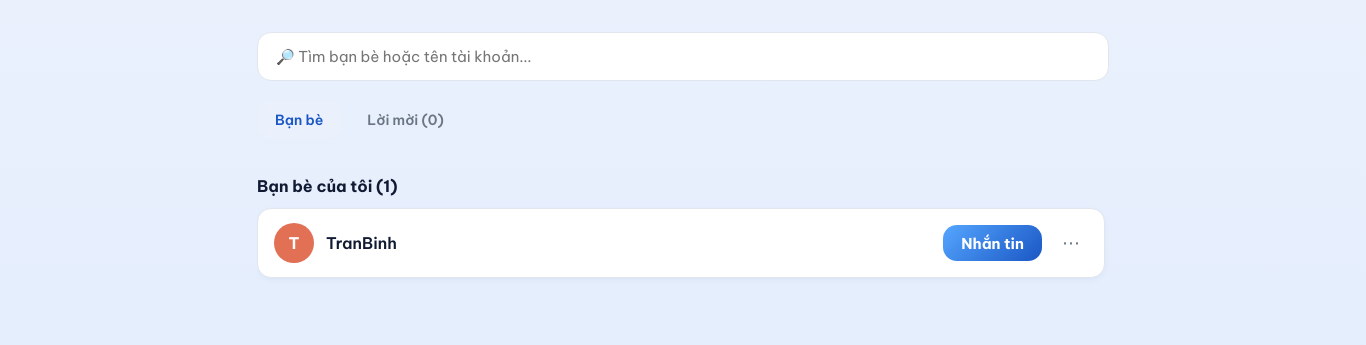
Scenario: TrangBanBe › tab Loi moi rong hien dung empty state
The image size is (1366, 345).
Expected: the text "TranBinh" is shown, [326,233,397,253]
Click the button "Lời mời (0)": click(406, 120) [349,101,462,139]
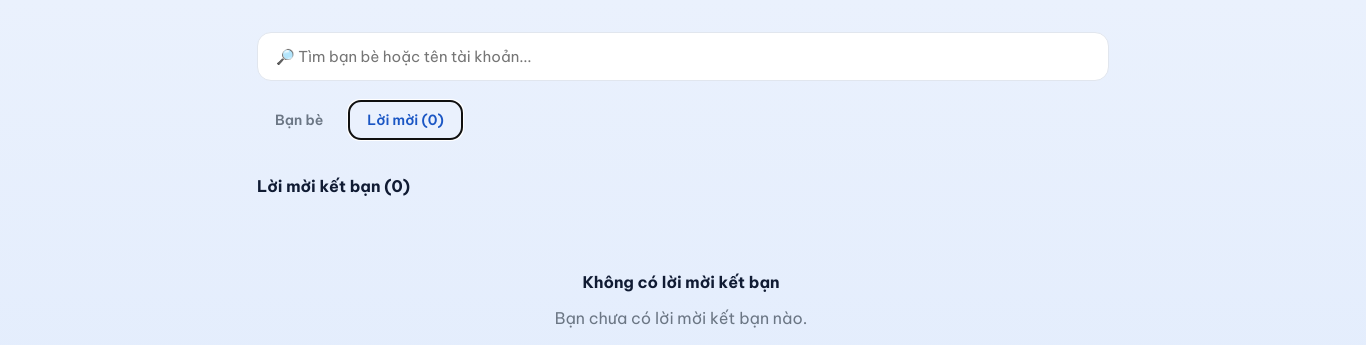
Expected: the text "Không có lời mời kết bạn" is shown, [582,272,780,292]
